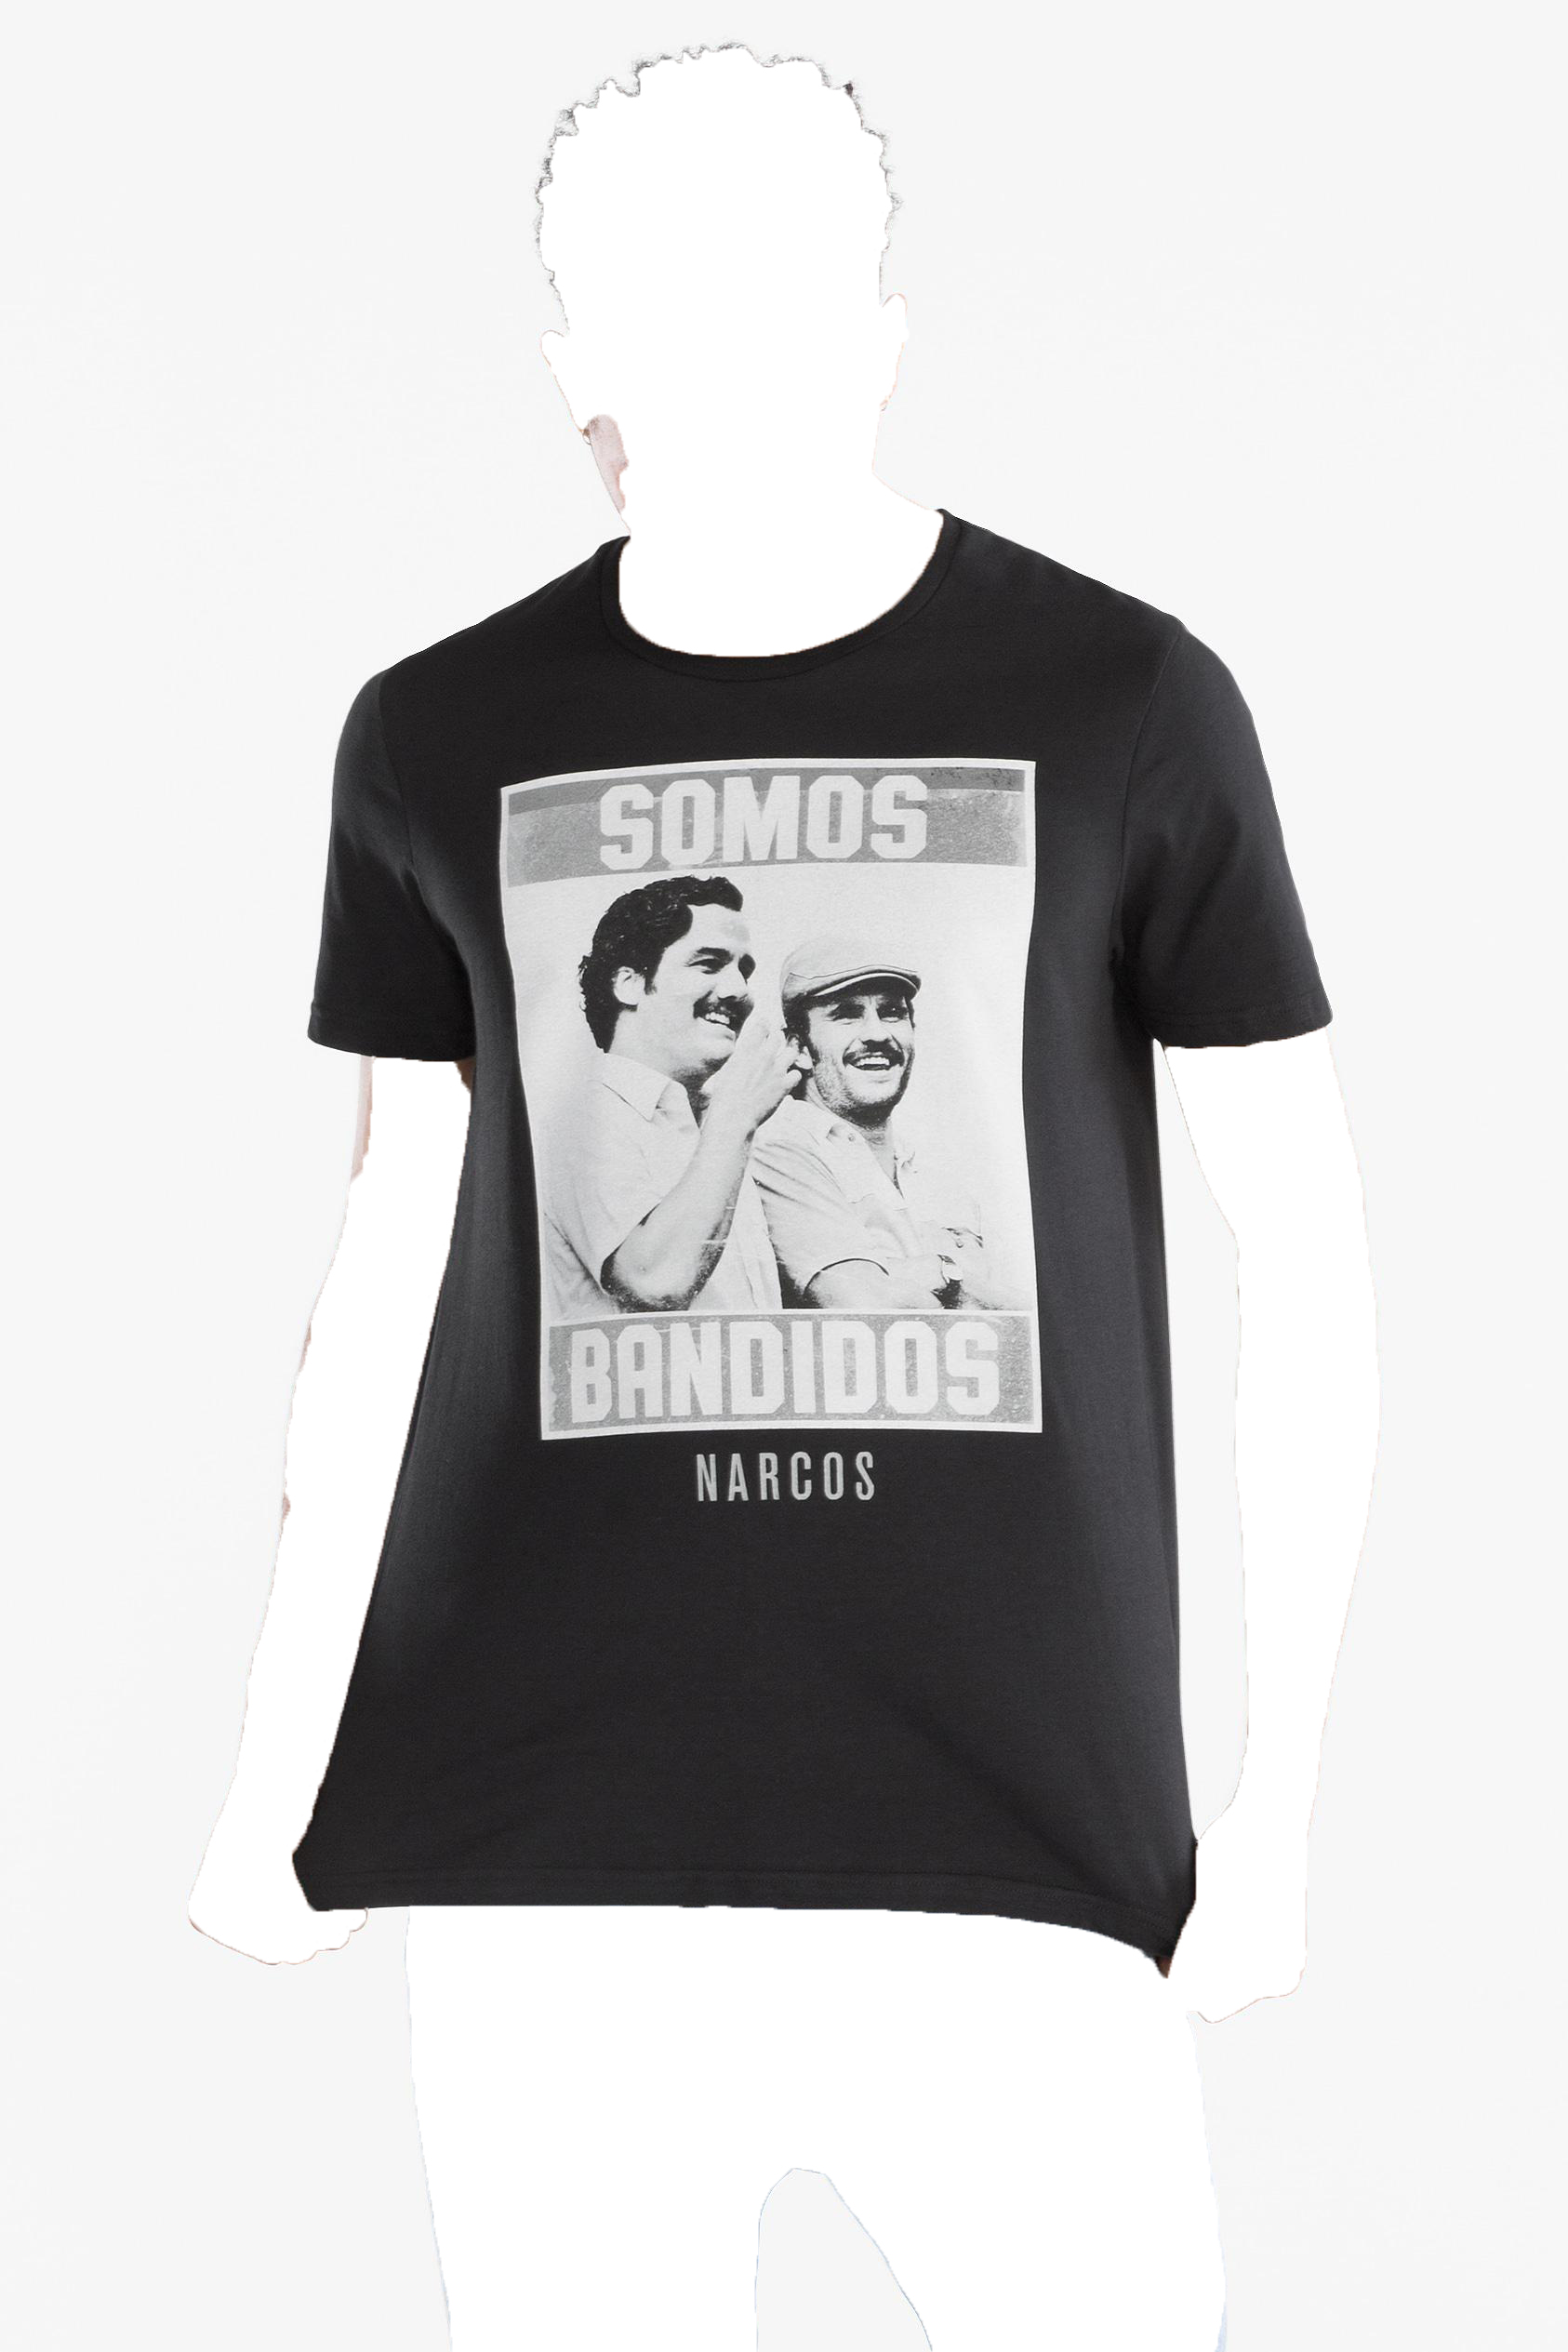teeshirt: (296, 516, 1344, 2002)
